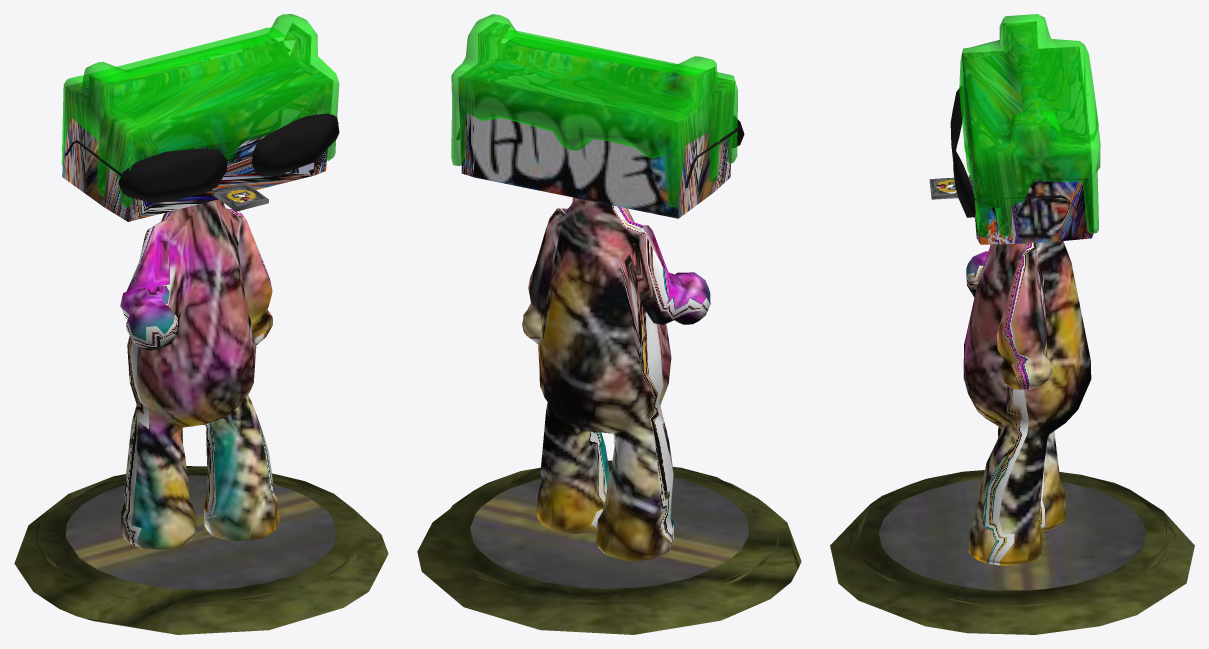
The picture shows the model from 3 angles, left to right: view 1: azimuth 30°, elevation 25°; view 2: azimuth 150°, elevation 25°; view 3: azimuth 270°, elevation 25°; orthographic projection. The views are drawn at different scales.
Size of the model in its own units: 1.44 by 2.16 by 1.43.
Materials: 10 (5 with a texture image).
